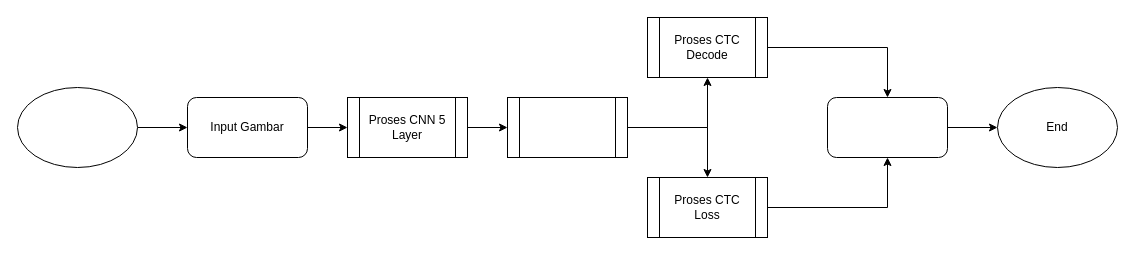
The diagram is 1135 pixels wide and 255 high, and some of its shapes have lost their labels. Each missing label, with the box of its shape:
Output Gambar (Hasil): (826, 96, 948, 158)
Proses RNN 2 Layer: (506, 96, 628, 158)
Start: (16, 86, 138, 168)
